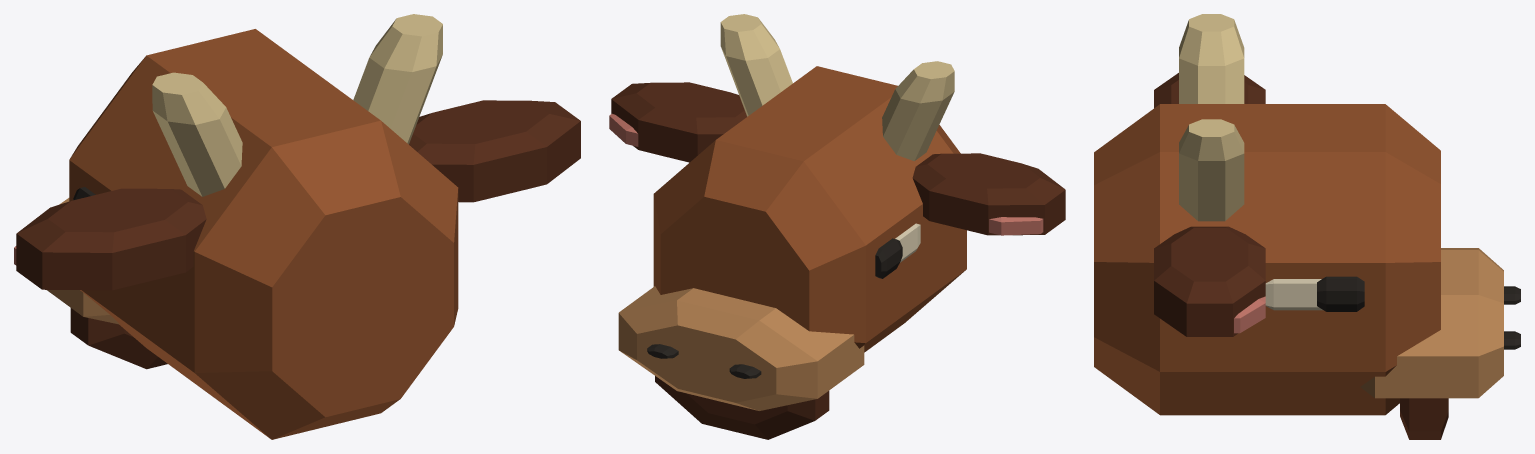
File: cow-brown-head.obj
3 renders of one model, left to right at view 1: azimuth 30°, elevation 25°; view 2: azimuth 150°, elevation 25°; view 3: azimuth 270°, elevation 25°, orthographic. The views are drawn at different scales.
Parts seen in each view (by area): view 1: cow-brown-head; view 2: cow-brown-head; view 3: cow-brown-head.
Part boxes in pixels (box(x1,y1,x2,y2)): cow-brown-head: box(14, 14, 580, 439); cow-brown-head: box(609, 14, 1065, 439); cow-brown-head: box(1094, 14, 1520, 439).
Size of the model in its own units: 0.9993 by 0.6828 by 0.7625.
